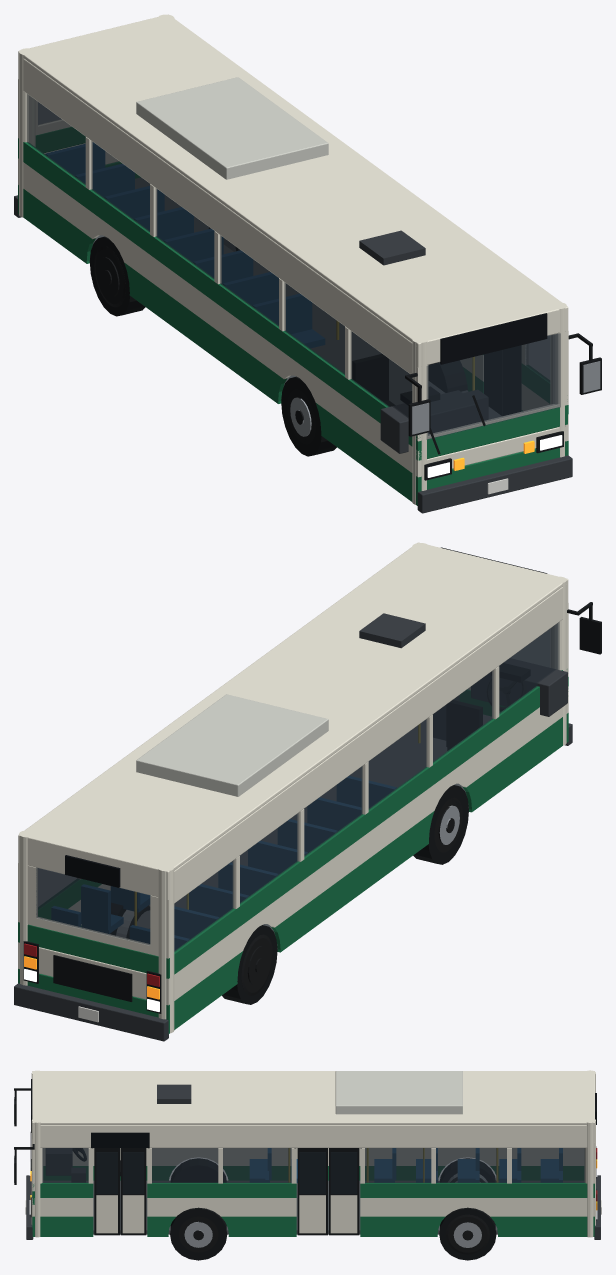
Rendered from bus.glb.
3 renders of one model, top to bottom at view 1: azimuth 30°, elevation 25°; view 2: azimuth 150°, elevation 25°; view 3: azimuth 270°, elevation 25°, orthographic. The views are drawn at different scales.
Visible parts, largest first — view 1: Roof, GlassR, CantRailR, RoofAC, RMid, Windshield, RSkirt, RBand, BumperF, Floor, SignFront, FrontBand (+26 smaller); view 2: Roof, GlassR, CantRailR, RoofAC, RMid, RSkirt, RBand, GlassRear, Floor, BumperR, RearHeader, RearBand (+29 smaller); view 3: Roof, CantRailL, GlassL-0.125, RoofAC, RMid, GlassL5.025, LMidA, LSkirtA, LBandA, LMidB, RSkirt, LBandB (+37 smaller).
Boxes of the visible parts, left/top/right/bottom form: Roof: left=18, top=15, right=567, bottom=346; GlassR: left=27, top=94, right=412, bottom=417; CantRailR: left=18, top=56, right=421, bottom=378; RoofAC: left=136, top=77, right=328, bottom=179; RMid: left=18, top=158, right=421, bottom=477; Windshield: left=426, top=333, right=560, bottom=439; RSkirt: left=18, top=185, right=421, bottom=505; RBand: left=18, top=138, right=421, bottom=450; BumperF: left=417, top=455, right=572, bottom=513; Floor: left=89, top=177, right=501, bottom=419; SignFront: left=440, top=313, right=547, bottom=364; FrontBand: left=416, top=406, right=567, bottom=460; Roof: left=25, top=542, right=567, bottom=873; GlassR: left=174, top=622, right=559, bottom=951; CantRailR: left=166, top=584, right=568, bottom=906; RoofAC: left=136, top=694, right=328, bottom=796; RMid: left=166, top=686, right=568, bottom=1005; RSkirt: left=166, top=713, right=568, bottom=1033; RBand: left=166, top=669, right=568, bottom=978; GlassRear: left=36, top=867, right=150, bottom=945; Floor: left=149, top=715, right=491, bottom=948; BumperR: left=14, top=983, right=168, bottom=1041; RearHeader: left=18, top=835, right=169, bottom=898; RearBand: left=18, top=923, right=169, bottom=977; Roof: left=32, top=1071, right=594, bottom=1124; CantRailL: left=32, top=1125, right=594, bottom=1147; GlassL-0.125: left=365, top=1148, right=584, bottom=1182; RoofAC: left=335, top=1071, right=462, bottom=1114; RMid: left=43, top=1148, right=583, bottom=1165; GlassL5.025: left=152, top=1148, right=291, bottom=1182; LMidA: left=360, top=1198, right=594, bottom=1216; LSkirtA: left=360, top=1216, right=594, bottom=1236; LBandA: left=360, top=1183, right=594, bottom=1197; LMidB: left=147, top=1198, right=296, bottom=1216; RSkirt: left=43, top=1166, right=583, bottom=1180; LBandB: left=147, top=1183, right=296, bottom=1197.
Bounding box in the file's own units: 3.18 × 3.32 × 12.01.
